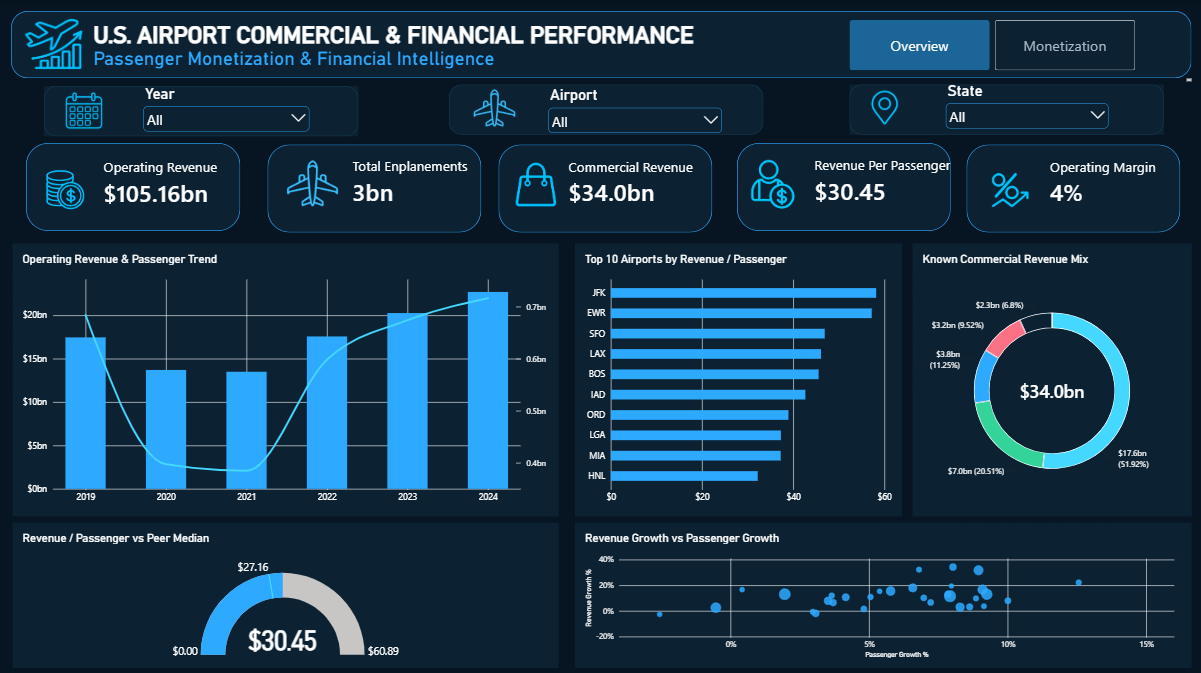

The dashboard page shown, as its layout file describes it:
{"tool":"powerbi","page":{"name":"Overview","canvas":[1920,1080],"ordinal":0},"visuals":[{"type":"shape","box":[20.2,20.2,1877.7,106.9],"z":0},{"type":"textbox","title":"          U.S. AIRPORT COMMERCIAL & FINANCIAL PERFORMANCE","box":[149.4,35.9,1774.6,89.6],"z":1000},{"type":"textbox","title":"Passenger Monetization & Financial Intelligence","box":[150.3,76.3,1746.5,54.9],"z":2000},{"type":"shape","box":[71.6,138.4,500,80],"z":4000},{"type":"shape","box":[715.8,136,500,80],"z":7000},{"type":"shape","box":[1352.8,136,500,80],"z":8000},{"type":"slicer","fields":{"Values":["dim_airport.Airport_Name"]},"box":[868.5,138.4,286.3,78.7],"z":10000},{"type":"slicer","fields":{"Values":["dim_geo.State"]},"box":[1500.7,131.2,269.3,85],"z":14000},{"type":"shape","box":[42.9,229,340.9,140],"z":16000},{"type":"cardVisual","title":"Operating Revenue","fields":{"Data":["_Measures.Total Operating Revenue"]},"box":[149.4,236,233,113.5],"z":17000},{"type":"shape","box":[1538.9,231.4,340,140],"z":18000},{"type":"shape","box":[427.1,231.4,340,140],"z":19000},{"type":"shape","box":[794.5,231.4,340,140],"z":20000},{"type":"shape","box":[1173.9,229,340,140],"z":21000},{"type":"cardVisual","fields":{"Data":["_Measures.Total Enplanements"]},"box":[546.7,212.1,243.4,159.9],"z":26001},{"type":"cardVisual","fields":{"Data":["_Measures.Known Commercial Revenue"]},"box":[889.9,217.1,242.7,150.2],"z":26002},{"type":"cardVisual","fields":{"Data":["_Measures.Revenue Per Passenger"]},"box":[1281.7,215.1,257.7,150.3],"z":26003},{"type":"cardVisual","fields":{"Data":["_Measures.Operating Profit Margin %"]},"box":[1655.1,218.1,228.2,150.2],"z":26004},{"type":"lineClusteredColumnComboChart","title":"Operating Revenue & Passenger Trend","fields":{"Category":["dim_year.Year"],"Y":["_Measures.Total Operating Revenue"],"Y2":["_Measures.Total Enplanements"]},"box":[21.5,388.9,868.5,434.2],"z":26005},{"type":"clusteredBarChart","title":"Top 10 Airports by Revenue / Passenger","fields":{"Category":["dim_airport.Airport_Code"],"Y":["_Measures.Revenue Per Passenger"]},"box":[916.2,388.9,520.1,434.2],"z":26006},{"type":"donutChart","title":"Known Commercial Revenue Mix","fields":{"Category":["dim_revenue_category.Revenue_Category"],"Y":["_Measures.Known Commercial Revenue"]},"box":[1453,388.9,443.8,434.2],"z":26007},{"type":"gauge","title":"Revenue / Passenger vs Peer Median","fields":{"TargetValue":["_Measures.Peer Median Revenue Per Passenger"],"Y":["_Measures.Revenue Per Passenger"]},"box":[21.5,832.7,868.5,231.4],"z":26008},{"type":"scatterChart","title":"Revenue Growth vs Passenger Growth","fields":{"Category":["dim_airport.Airport_Code"],"Size":["_Measures.Total Operating Revenue"],"X":["_Measures.Passenger YoY Growth %"],"Y":["_Measures.Revenue YoY Growth %"]},"box":[916.2,832.7,980.6,231.4],"z":26009},{"type":"slicer","fields":{"Values":["dim_year.Year"]},"box":[224.3,136,274.4,83.5],"z":26010},{"type":"image","box":[749.9,116.5,77.7,113.5],"z":26011},{"type":"image","box":[98.6,116.5,74.7,116.5],"z":26012},{"type":"image","box":[59.8,248,89.6,104.6],"z":26013},{"type":"image","box":[1368.3,137.4,83.7,68.7],"z":26014},{"type":"image","box":[1556.5,256.9,92.6,85],"z":26015},{"type":"image","box":[427.2,245,143.4,95.6],"z":26016},{"type":"image","box":[788.7,248,128.5,92.6],"z":26017},{"type":"image","box":[1177.1,245,107.6,95.6],"z":26018},{"type":"image","box":[20.9,9,128.5,116.5],"z":26019},{"type":"pageNavigator","box":[1352.8,33.4,454.1,80.7],"z":26020}]}

Visuals, with their boxes in screenshot pixels (x1, y1, x2, y2), scaled from the page's 1920x1080 canvas onto the 1201x673 screenshot:
shape: x1=13 y1=13 x2=1187 y2=79
"          U.S. AIRPORT COMMERCIAL & FINANCIAL PERFORMANCE" textbox: x1=93 y1=22 x2=1200 y2=78
"Passenger Monetization & Financial Intelligence" textbox: x1=94 y1=48 x2=1186 y2=82
shape: x1=45 y1=86 x2=358 y2=136
shape: x1=448 y1=85 x2=761 y2=135
shape: x1=846 y1=85 x2=1159 y2=135
slicer - dim_airport.Airport_Name: x1=543 y1=86 x2=722 y2=135
slicer - dim_geo.State: x1=939 y1=82 x2=1107 y2=135
shape: x1=27 y1=143 x2=240 y2=230
"Operating Revenue" cardVisual: x1=93 y1=147 x2=239 y2=218
shape: x1=963 y1=144 x2=1175 y2=231
shape: x1=267 y1=144 x2=480 y2=231
shape: x1=497 y1=144 x2=710 y2=231
shape: x1=734 y1=143 x2=947 y2=230
cardVisual - _Measures.Total Enplanements: x1=342 y1=132 x2=494 y2=232
cardVisual - _Measures.Known Commercial Revenue: x1=557 y1=135 x2=708 y2=229
cardVisual - _Measures.Revenue Per Passenger: x1=802 y1=134 x2=963 y2=228
cardVisual - _Measures.Operating Profit Margin %: x1=1035 y1=136 x2=1178 y2=230
"Operating Revenue & Passenger Trend" lineClusteredColumnComboChart: x1=13 y1=242 x2=557 y2=513
"Top 10 Airports by Revenue / Passenger" clusteredBarChart: x1=573 y1=242 x2=898 y2=513
"Known Commercial Revenue Mix" donutChart: x1=909 y1=242 x2=1186 y2=513
"Revenue / Passenger vs Peer Median" gauge: x1=13 y1=519 x2=557 y2=663
"Revenue Growth vs Passenger Growth" scatterChart: x1=573 y1=519 x2=1186 y2=663
slicer - dim_year.Year: x1=140 y1=85 x2=312 y2=137
image: x1=469 y1=73 x2=518 y2=143
image: x1=62 y1=73 x2=108 y2=145
image: x1=37 y1=155 x2=93 y2=220
image: x1=856 y1=86 x2=908 y2=128
image: x1=974 y1=160 x2=1032 y2=213
image: x1=267 y1=153 x2=357 y2=212
image: x1=493 y1=155 x2=574 y2=212
image: x1=736 y1=153 x2=804 y2=212
image: x1=13 y1=6 x2=93 y2=78
pageNavigator: x1=846 y1=21 x2=1130 y2=71
